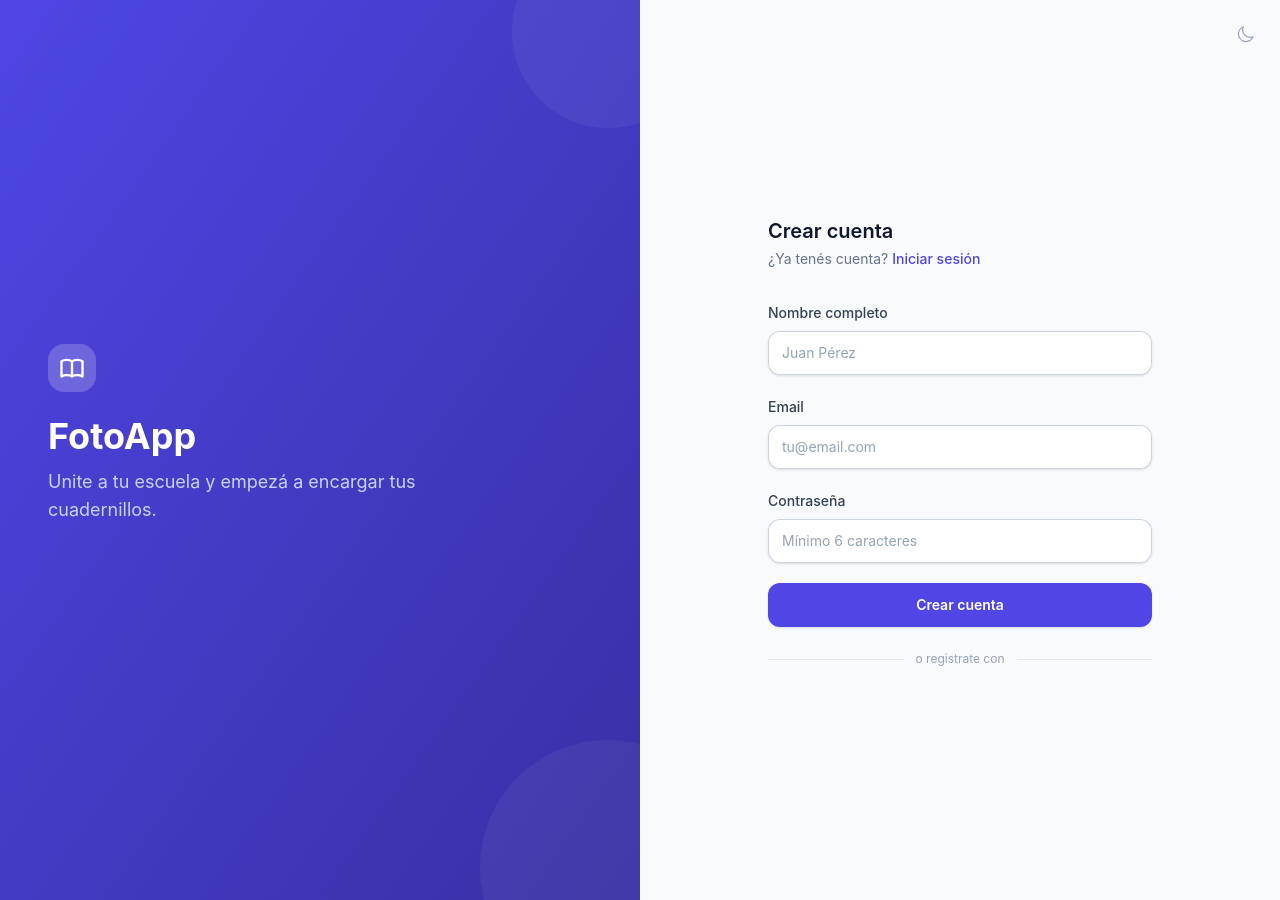
Test: Register page › shows error message on API failure
Step 1. Type "New User" into the field labelled "Nombre completo" → (960, 353), box [768, 331, 1152, 375]
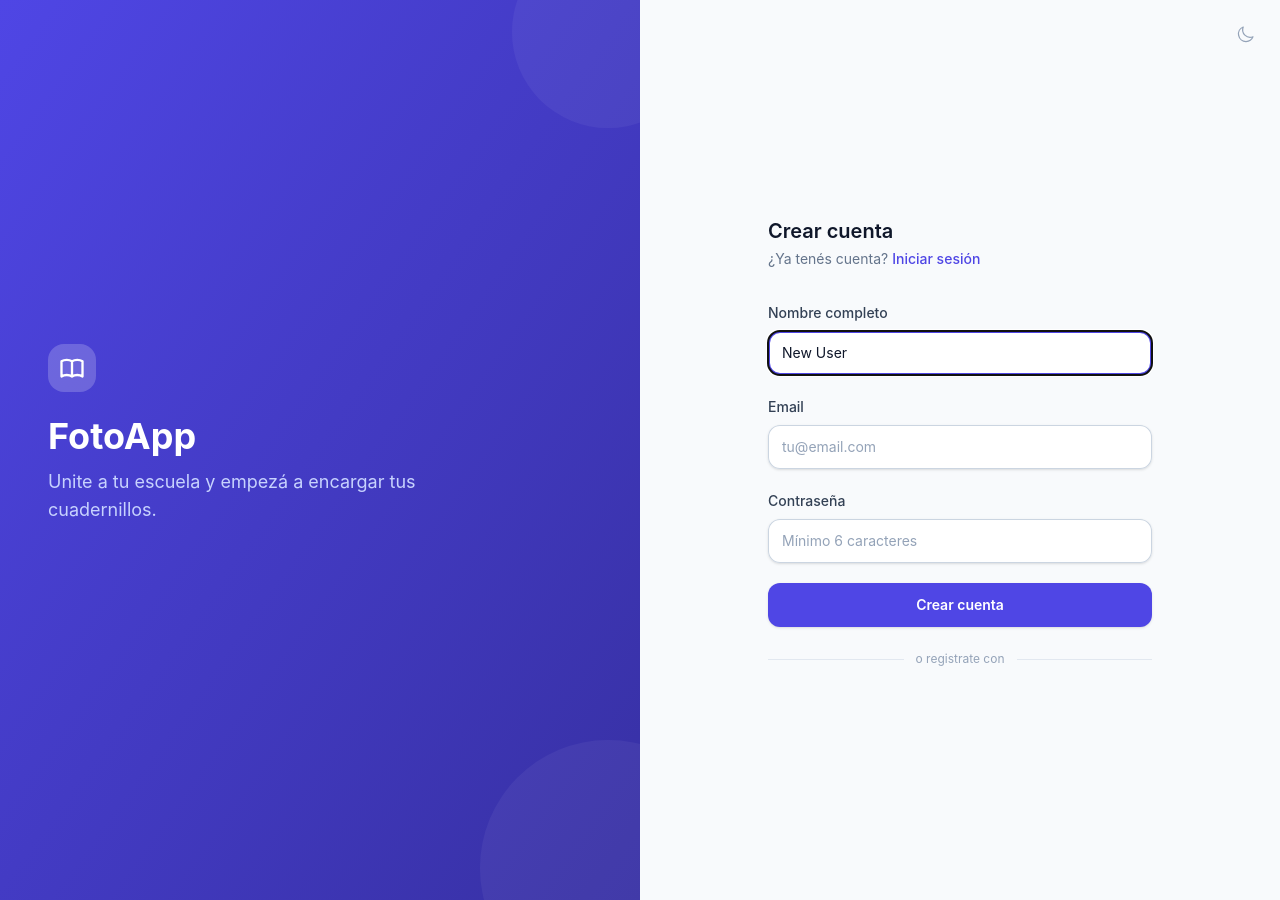
Step 2. Type "existing@test.com" into the field labelled "Email" → (960, 447), box [768, 425, 1152, 469]
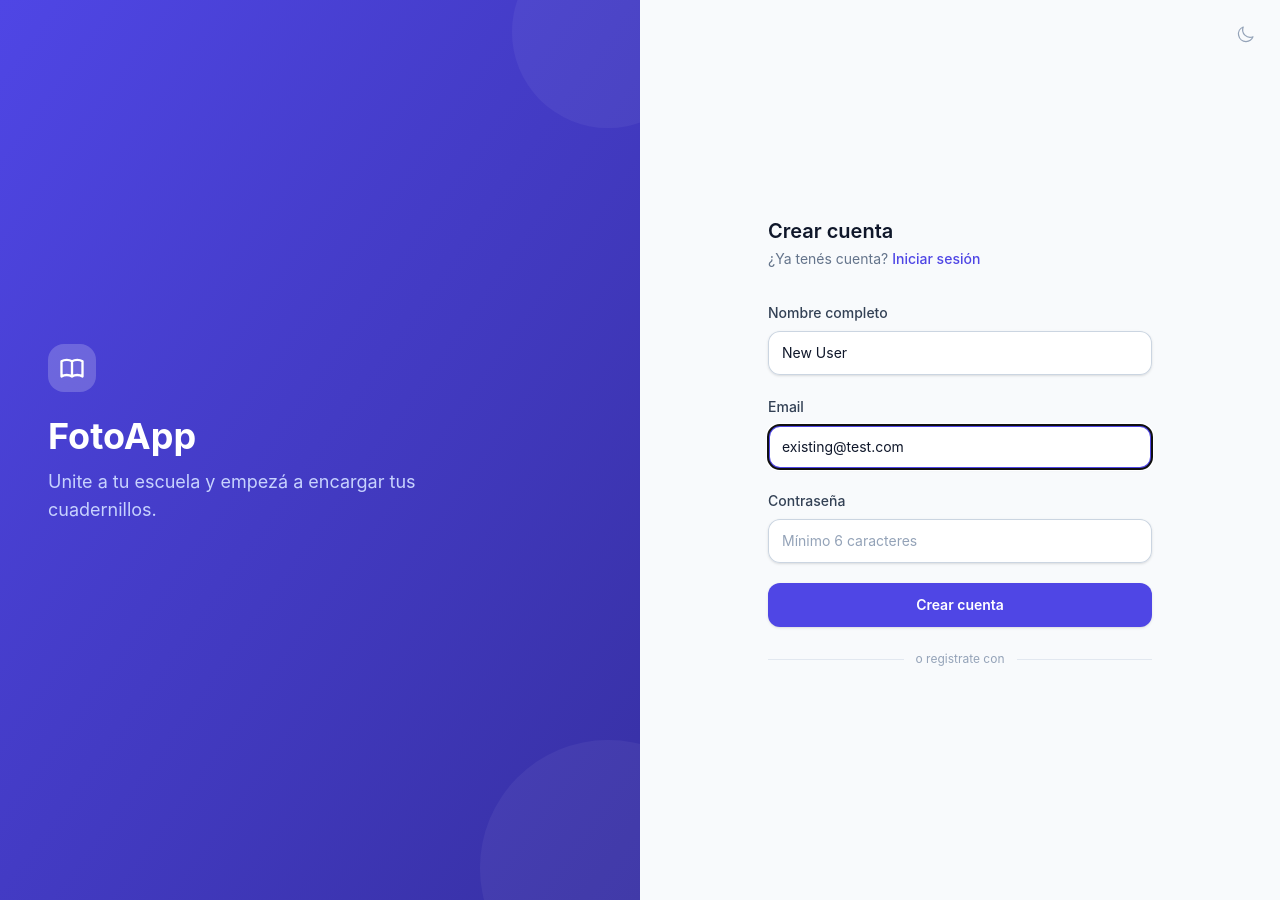
Step 3. Type "SecurePass123" into the password field labelled "Contraseña" → (960, 541), box [768, 519, 1152, 563]
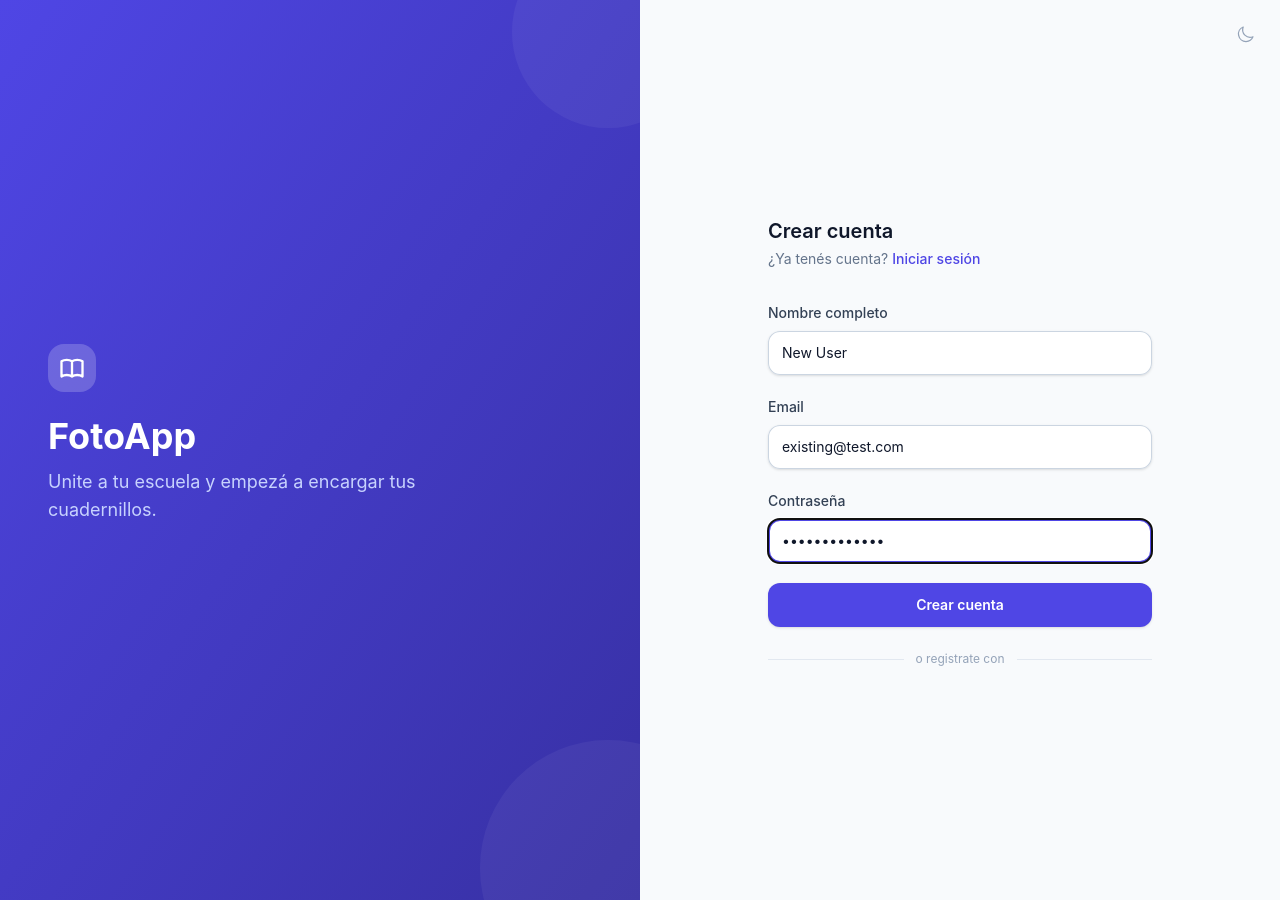
Step 4. Click the button "Crear cuenta" → (960, 605), box [768, 583, 1152, 627]
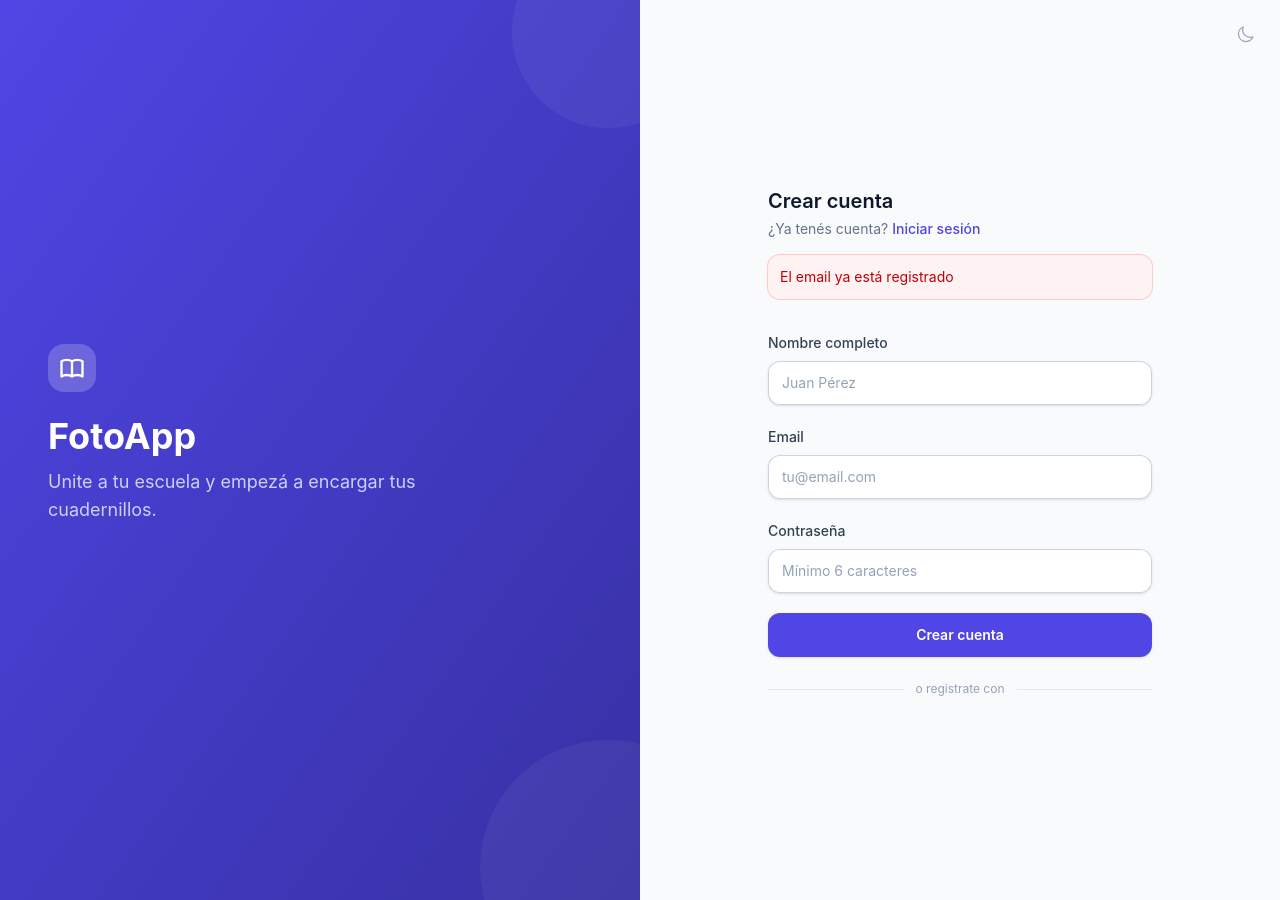
Expected: the text "El email ya está registrado" is shown, [768, 255, 1152, 299]
